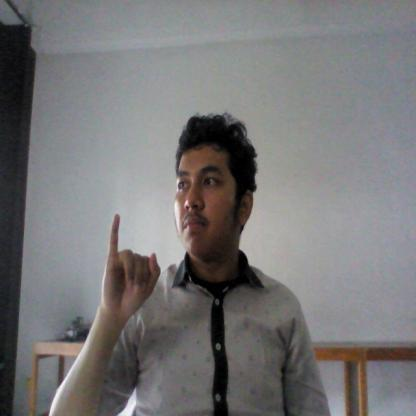I: (99, 207, 162, 325)
